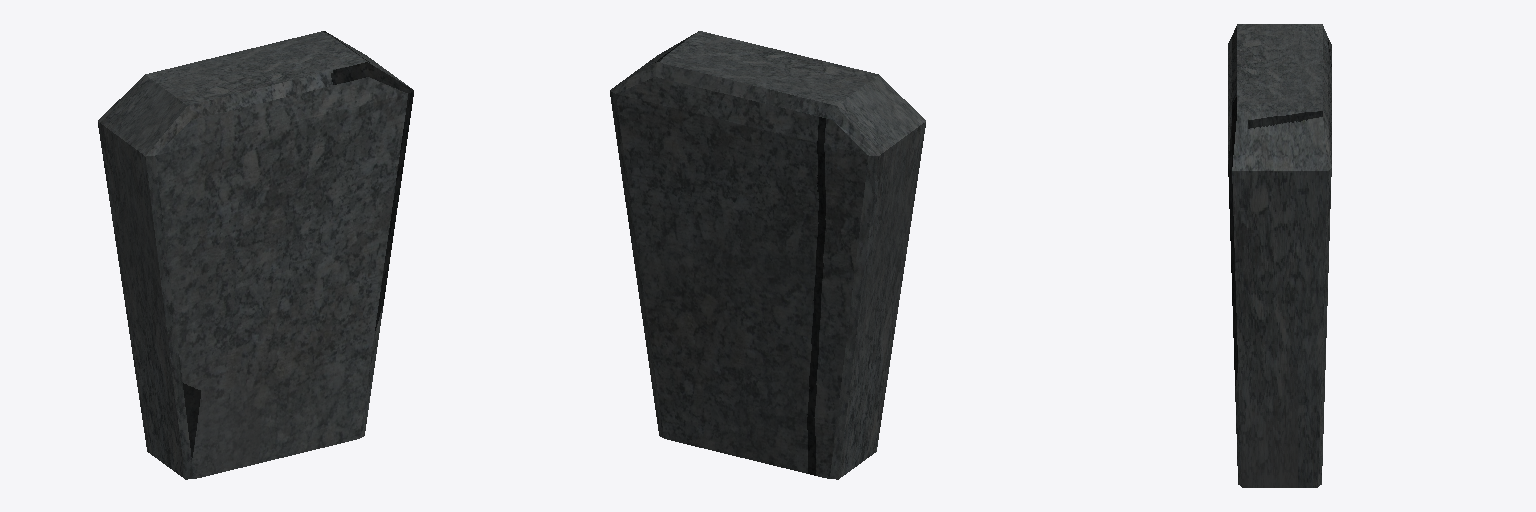
The picture shows the model from 3 angles: view 1: azimuth 30°, elevation 25°; view 2: azimuth 150°, elevation 25°; view 3: azimuth 270°, elevation 25°; orthographic projection.
Parts seen in each view (by area): view 1: Cube; view 2: Cube; view 3: Cube.
Boxes of the visible parts, x1=… form: Cube: x1=98, y1=31, x2=413, y2=479; Cube: x1=610, y1=31, x2=925, y2=479; Cube: x1=1228, y1=24, x2=1331, y2=487.
Bounding box in the file's own units: 1.5 × 2 × 0.5.
Materials: 1 (1 with a texture image).